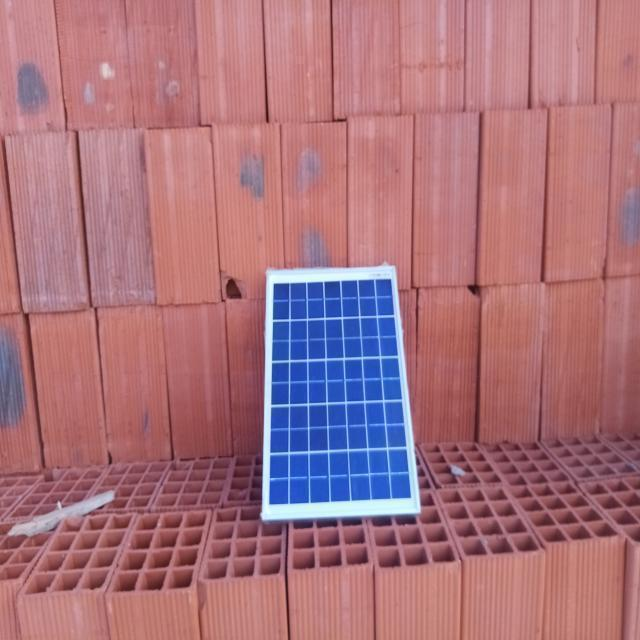Normal Solar Panel: (263, 267, 419, 518)
